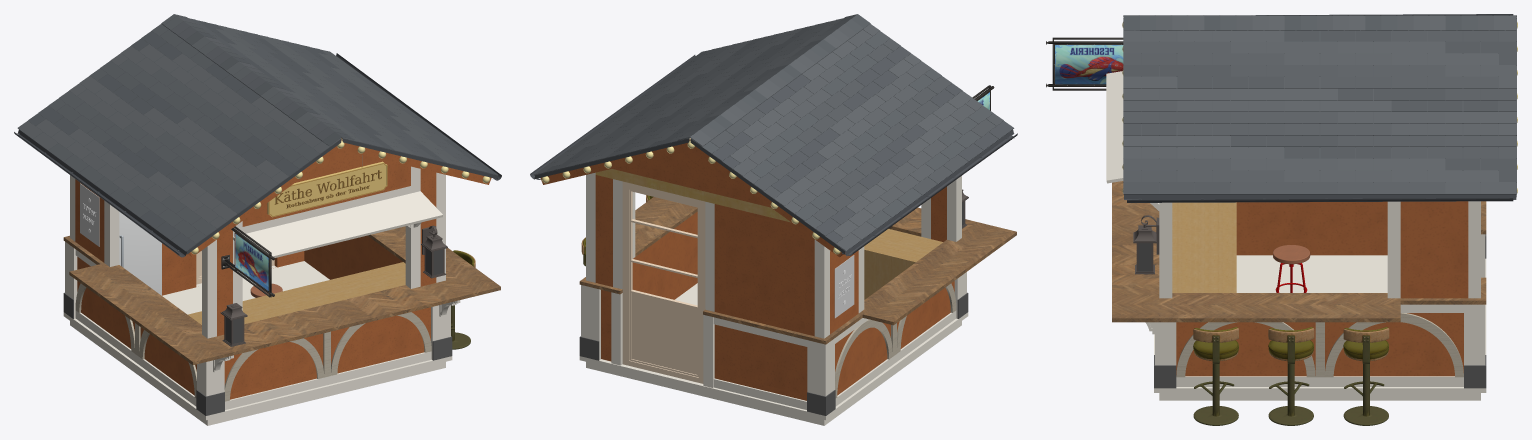
The picture shows the model from 3 angles, left to right: view 1: azimuth 30°, elevation 25°; view 2: azimuth 150°, elevation 25°; view 3: azimuth 270°, elevation 25°; orthographic projection. The views are drawn at different scales.
Visible parts, largest first — view 1: Geom3D (×25), Geom3D_ (×4), Geom3D_Component#171 (×2), Geom3D_Bo goc#7 (×3), Geom3D_Thanh dinh#18, Geom3D_Component#68, Geom3D_Thanh dinh#1, Geom3D_Component#62, Geom3D_Component#231; view 2: Geom3D (×20), Geom3D_ (×6), Geom3D_Component#169, Geom3D_Component#171 (×3), Geom3D_Bo goc#7 (×2), Geom3D_Component#64 (×2), Geom3D_Thanh dinh#17 (×2), Geom3D_Thanh dinh#1; view 3: Geom3D (×20), Geom3D_ (×4), Geom3D_Thanh dinh#1 (×2), Geom3D_Component#171 (×2), Geom3D_Bo goc#7 (×2), Geom3D_Component#231.
Part boxes in pixels (bbox=[...]): Geom3D (×25): bbox=[14, 14, 501, 415]; Geom3D_ (×4): bbox=[63, 183, 452, 425]; Geom3D_Component#171 (×2): bbox=[202, 172, 445, 338]; Geom3D_Bo goc#7 (×3): bbox=[65, 242, 450, 396]; Geom3D_Thanh dinh#18: bbox=[225, 351, 431, 409]; Geom3D_Component#68: bbox=[242, 186, 410, 233]; Geom3D_Thanh dinh#1: bbox=[75, 311, 196, 406]; Geom3D_Component#62: bbox=[405, 166, 420, 288]; Geom3D_Component#231: bbox=[104, 200, 119, 266]; Geom3D (×20): bbox=[530, 14, 1017, 415]; Geom3D_ (×6): bbox=[579, 181, 968, 425]; Geom3D_Component#169: bbox=[624, 183, 703, 383]; Geom3D_Component#171 (×3): bbox=[586, 172, 961, 338]; Geom3D_Bo goc#7 (×2): bbox=[581, 285, 834, 396]; Geom3D_Component#64 (×2): bbox=[613, 179, 714, 311]; Geom3D_Thanh dinh#17 (×2): bbox=[713, 317, 807, 409]; Geom3D_Thanh dinh#1: bbox=[835, 310, 956, 406]; Geom3D (×20): bbox=[1055, 14, 1516, 425]; Geom3D_ (×4): bbox=[1106, 71, 1486, 400]; Geom3D_Thanh dinh#1 (×2): bbox=[1176, 304, 1463, 386]; Geom3D_Component#171 (×2): bbox=[1159, 201, 1480, 298]; Geom3D_Bo goc#7 (×2): bbox=[1155, 304, 1485, 365]; Geom3D_Component#231: bbox=[1387, 201, 1400, 298].
Size of the model in its own units: 4.17 by 3.26 by 4.4.
46 materials, 13 textured.
